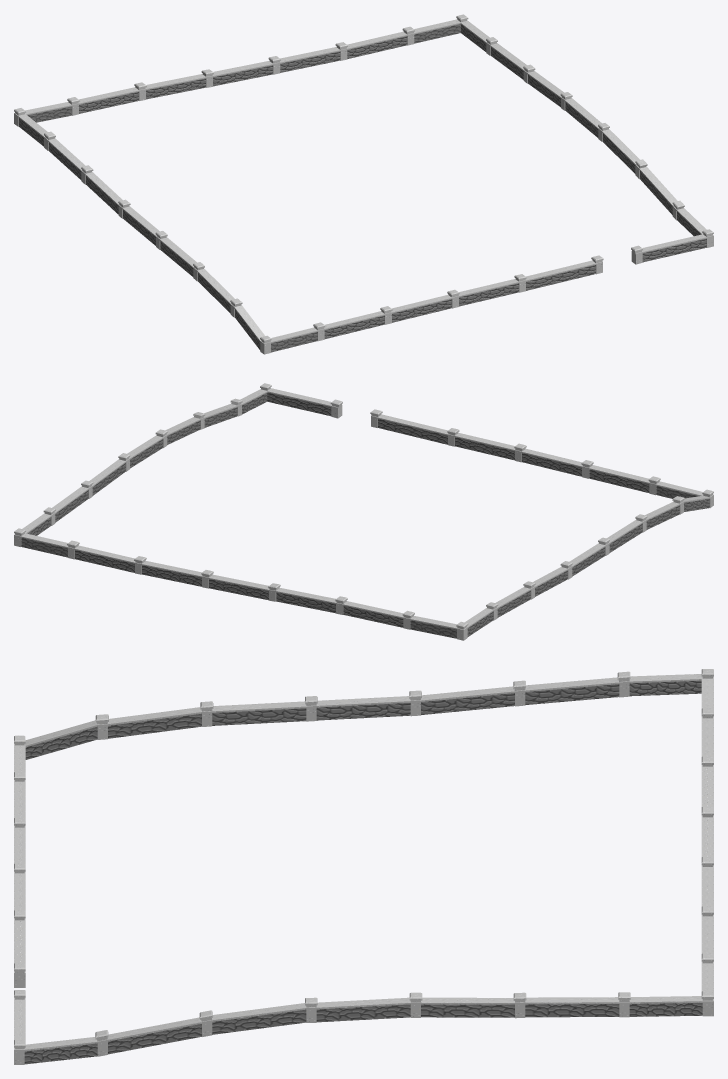
File: walls_01.fbx
The picture shows the model from 3 angles, top to bottom: view 1: azimuth 30°, elevation 25°; view 2: azimuth 150°, elevation 25°; view 3: azimuth 270°, elevation 25°; orthographic projection. The views are drawn at different scales.
Parts seen in each view (by area): view 1: walls; view 2: walls; view 3: walls.
Part boxes in pixels (x1,y1,x2,y2): walls: (14,14,713,354); walls: (14,383,713,640); walls: (14,669,713,1064).
Bounding box in the file's own units: 9949 × 1349 × 9585.
Materials: 2 (2 with a texture image).
